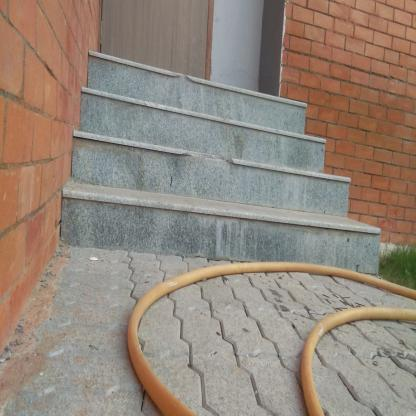stairs: (79, 126, 330, 274)
